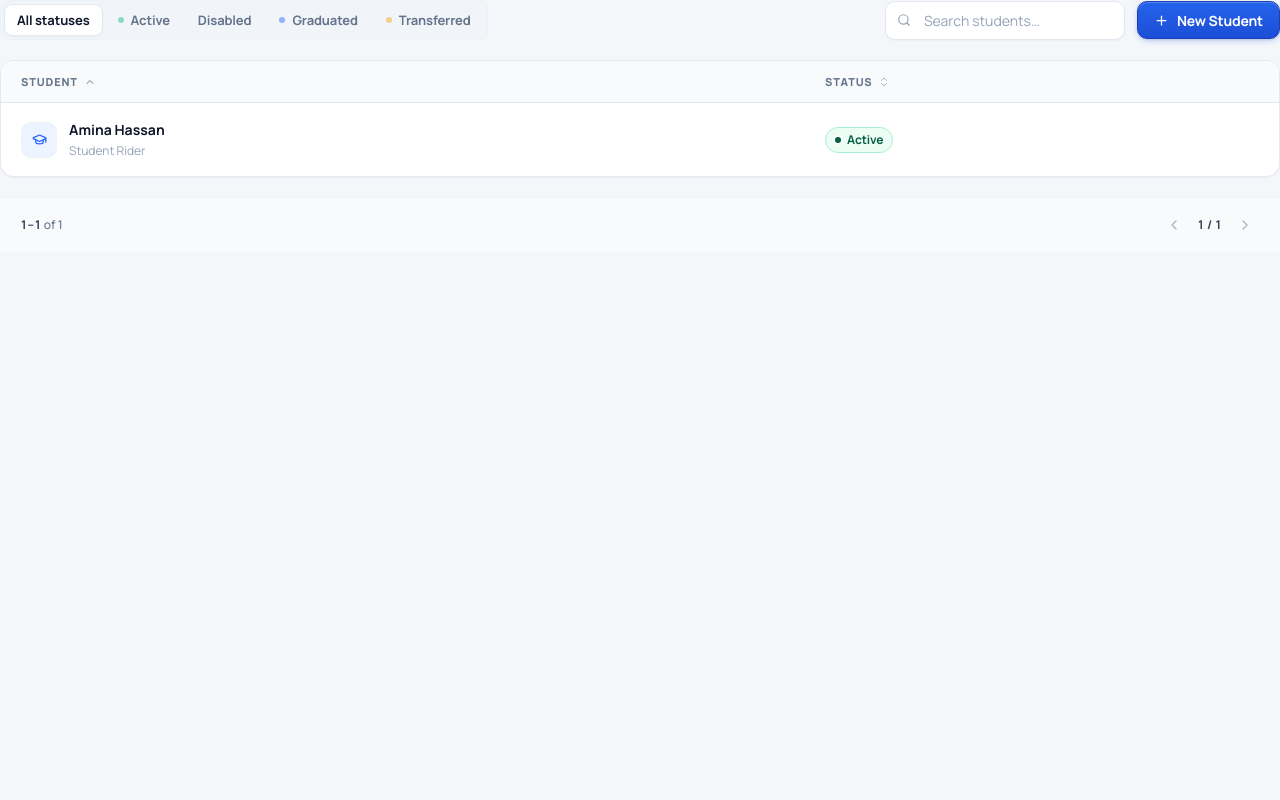
Test: StudentsPage › shows 'No guardians linked yet' when the student has no guardians
Click the text "Amina Hassan".
click(117, 130)  # box [69,119,165,141]
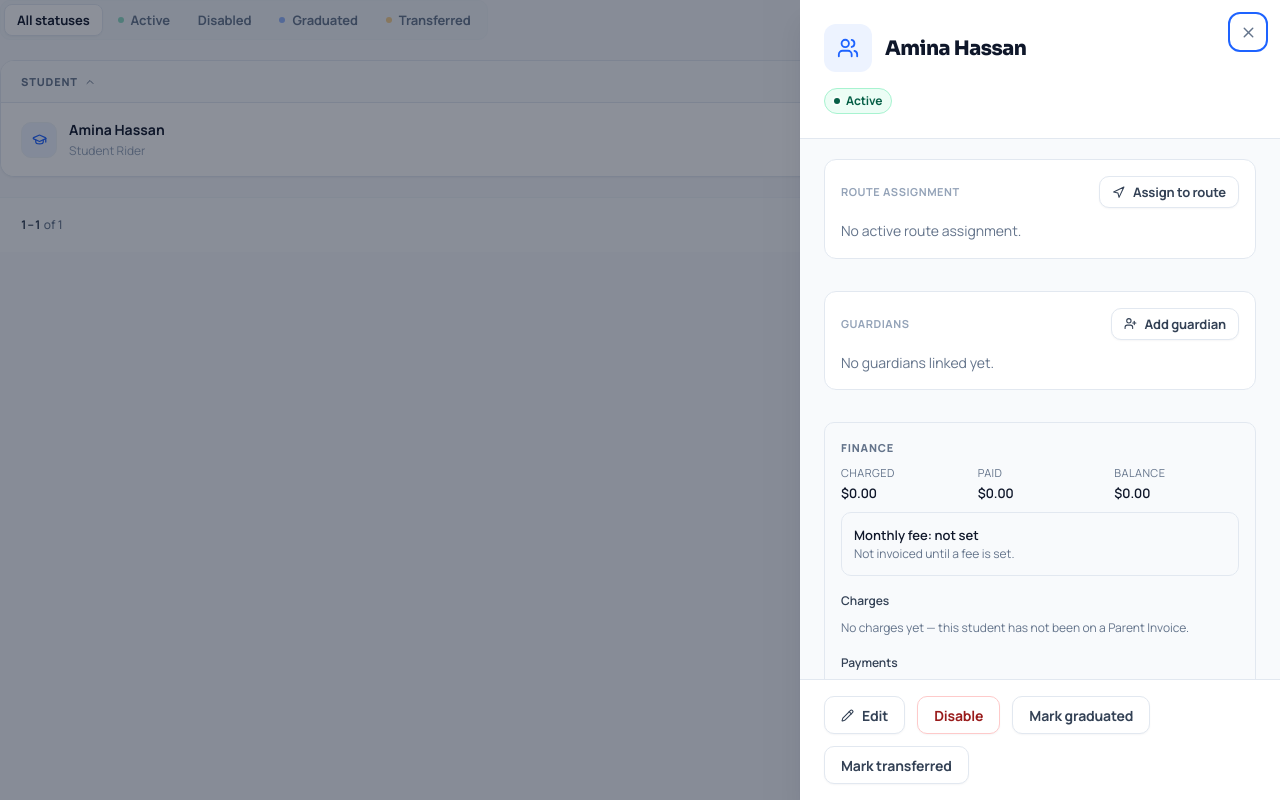
Result: the text "No guardians linked yet." is shown at [841,353,994,372]
